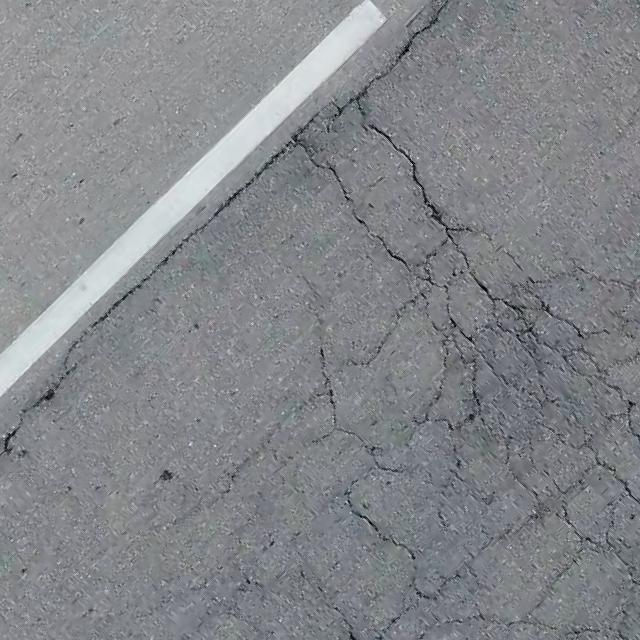GRIETA: (0, 144, 289, 455), (367, 0, 451, 87)
PIEL DE COCODRILO: (113, 71, 639, 639)
